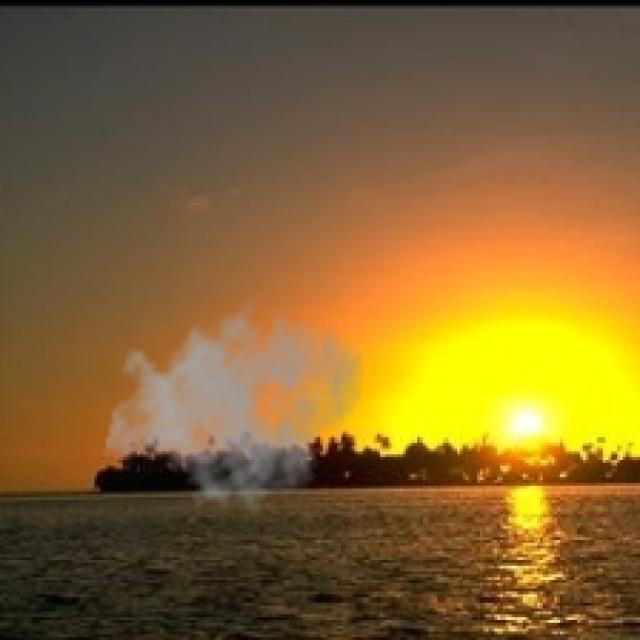smoke: (103, 289, 366, 517)
